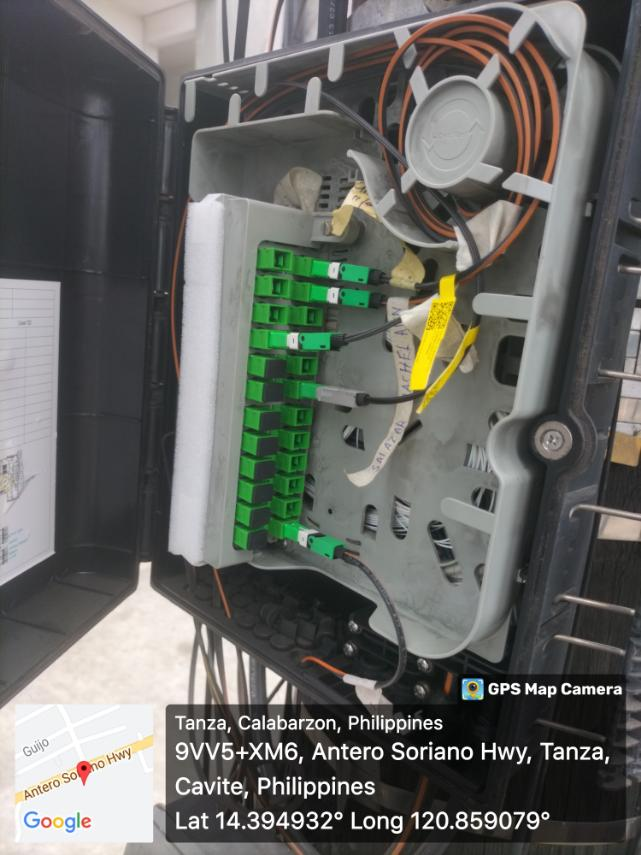no dust cap: (302, 332, 322, 353), (270, 276, 290, 296), (273, 249, 292, 269), (269, 305, 287, 325), (300, 358, 319, 376), (305, 307, 323, 326), (286, 477, 304, 496), (295, 408, 313, 426), (285, 500, 302, 518), (290, 454, 307, 472), (292, 432, 310, 449)
occupied: (284, 524, 359, 569), (299, 383, 377, 415), (313, 257, 386, 289), (309, 284, 382, 313), (266, 331, 352, 354)
vacant: (247, 529, 268, 552), (258, 436, 279, 458), (259, 412, 281, 432), (254, 461, 276, 481), (265, 360, 288, 379), (264, 382, 284, 402), (253, 485, 273, 504), (251, 509, 269, 529)
